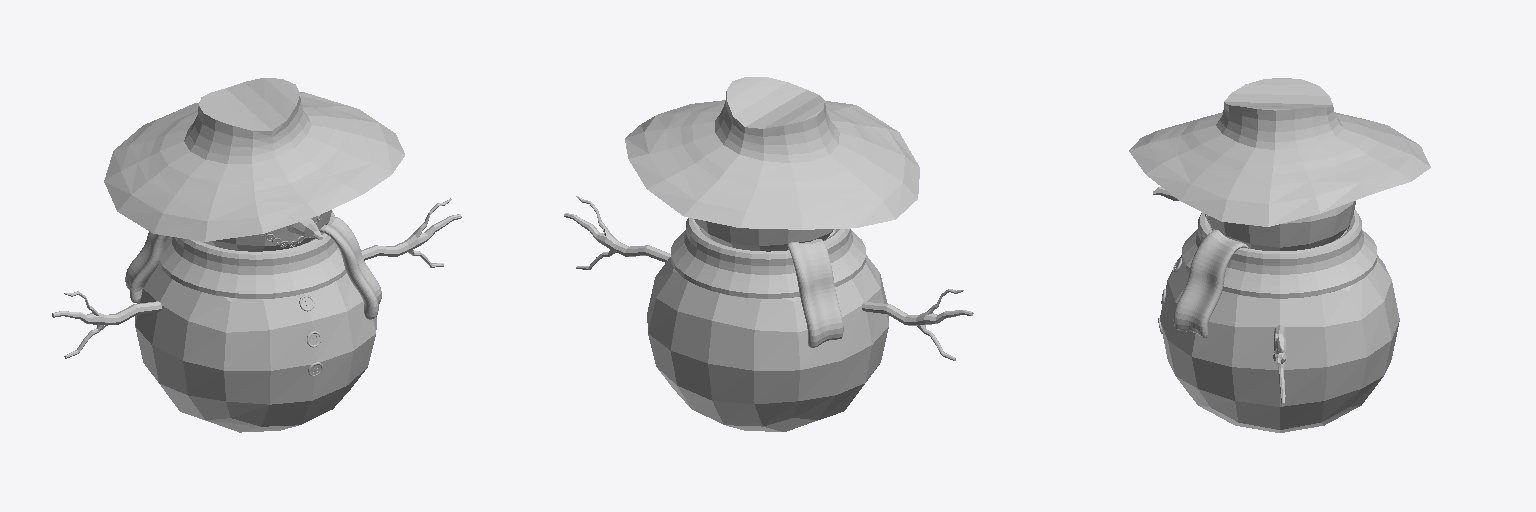
File: SnowmanWithButtons Ver2.obj
3 views of the same model, side by side, from view 1: azimuth 30°, elevation 25°; view 2: azimuth 150°, elevation 25°; view 3: azimuth 270°, elevation 25° (orthographic).
Visible parts, largest first — view 1: Snowman:pCube27 polySurface3, Snowman:pCube27 polySurface48, Snowman:pCube27 polySurface24, polySurface23 Snowman:pCube27, polySurface61, polySurface45, Snowman:pCube27 polySurface60, Snowman:pCube27 polySurface25; view 2: Snowman:pCube27 polySurface3, Snowman:pCube27 polySurface48, Snowman:pCube27 polySurface24, Snowman:pCube27 polySurface60, Snowman:pCube27 polySurface25, polySurface45, polySurface61; view 3: Snowman:pCube27 polySurface3, Snowman:pCube27 polySurface48, Snowman:pCube27 polySurface24, polySurface23 Snowman:pCube27, Snowman:pCube27 polySurface25, polySurface45.
Part boxes in pixels (left/top/right/bottom): Snowman:pCube27 polySurface3: left=104, top=78, right=404, bottom=241; Snowman:pCube27 polySurface48: left=135, top=264, right=376, bottom=432; Snowman:pCube27 polySurface24: left=159, top=211, right=346, bottom=298; polySurface23 Snowman:pCube27: left=320, top=216, right=381, bottom=319; polySurface61: left=52, top=291, right=161, bottom=358; polySurface45: left=361, top=198, right=461, bottom=267; Snowman:pCube27 polySurface60: left=125, top=231, right=167, bottom=302; Snowman:pCube27 polySurface25: left=204, top=210, right=331, bottom=251; Snowman:pCube27 polySurface3: left=625, top=77, right=919, bottom=229; Snowman:pCube27 polySurface48: left=647, top=229, right=888, bottom=431; Snowman:pCube27 polySurface24: left=671, top=218, right=865, bottom=298; Snowman:pCube27 polySurface60: left=787, top=239, right=843, bottom=347; Snowman:pCube27 polySurface25: left=694, top=219, right=833, bottom=251; polySurface45: left=564, top=196, right=670, bottom=269; polySurface61: left=862, top=289, right=973, bottom=360; Snowman:pCube27 polySurface3: left=1129, top=78, right=1430, bottom=226; Snowman:pCube27 polySurface48: left=1160, top=230, right=1399, bottom=432; Snowman:pCube27 polySurface24: left=1182, top=210, right=1376, bottom=298; polySurface23 Snowman:pCube27: left=1173, top=230, right=1249, bottom=337; Snowman:pCube27 polySurface25: left=1209, top=201, right=1355, bottom=250; polySurface45: left=1273, top=325, right=1286, bottom=405.
Size of the model in its own units: 6.5 by 5 by 4.18.